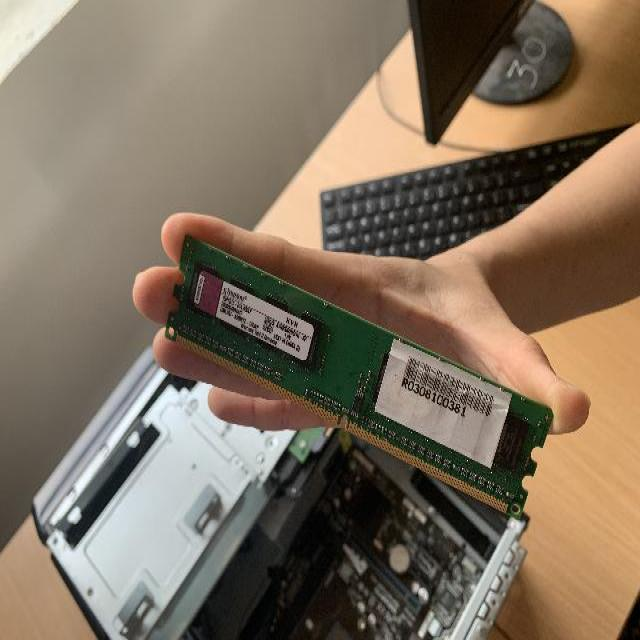RAM: (164, 222, 556, 526)
